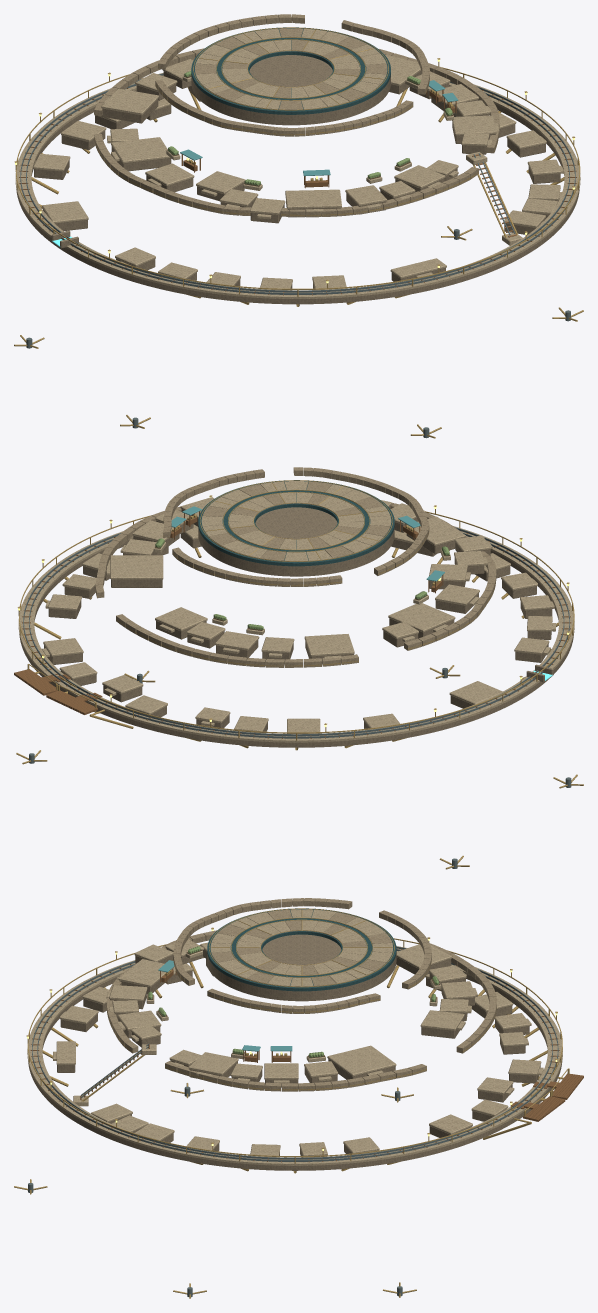
Rendered from architecture.glb.
The picture shows the model from 3 angles, top to bottom: view 1: azimuth 30°, elevation 25°; view 2: azimuth 150°, elevation 25°; view 3: azimuth 270°, elevation 25°; orthographic projection. The views are drawn at different scales.
Parts seen in each view (by area): view 1: Dressed sandstone, Foundation limestone, Crown warm limestone, Aged brass, Rail iron, Crown teal slate, Dock timber, Market teal canvas; view 2: Dressed sandstone, Foundation limestone, Crown warm limestone, Aged brass, Rail iron, Crown teal slate, Dock timber; view 3: Dressed sandstone, Foundation limestone, Crown warm limestone, Aged brass, Rail iron, Crown teal slate, Dock timber.
Part boxes in pixels (left/top/right/bottom): Dressed sandstone: left=15, top=28, right=580, bottom=298; Foundation limestone: left=16, top=55, right=579, bottom=304; Crown warm limestone: left=94, top=14, right=499, bottom=217; Aged brass: left=14, top=27, right=583, bottom=438; Rail iron: left=20, top=73, right=575, bottom=438; Crown teal slate: left=191, top=27, right=390, bottom=114; Dock timber: left=19, top=82, right=576, bottom=295; Market teal canvas: left=180, top=80, right=458, bottom=176; Dressed sandstone: left=18, top=481, right=574, bottom=742; Foundation limestone: left=19, top=505, right=573, bottom=747; Crown warm limestone: left=95, top=467, right=496, bottom=667; Aged brass: left=16, top=471, right=583, bottom=869; Rail iron: left=23, top=527, right=571, bottom=868; Crown teal slate: left=198, top=480, right=394, bottom=566; Dock timber: left=14, top=511, right=571, bottom=738; Dressed sandstone: left=27, top=909, right=562, bottom=1165; Foundation limestone: left=28, top=934, right=562, bottom=1170; Crown warm limestone: left=106, top=898, right=496, bottom=1091; Aged brass: left=14, top=908, right=569, bottom=1298; Rail iron: left=28, top=946, right=558, bottom=1297; Crown teal slate: left=207, top=908, right=396, bottom=991; Dock timber: left=30, top=949, right=583, bottom=1162.
Bounding box in the file's own units: 1.78 × 0.9114 × 1.88.
12 materials, 4 textured.
